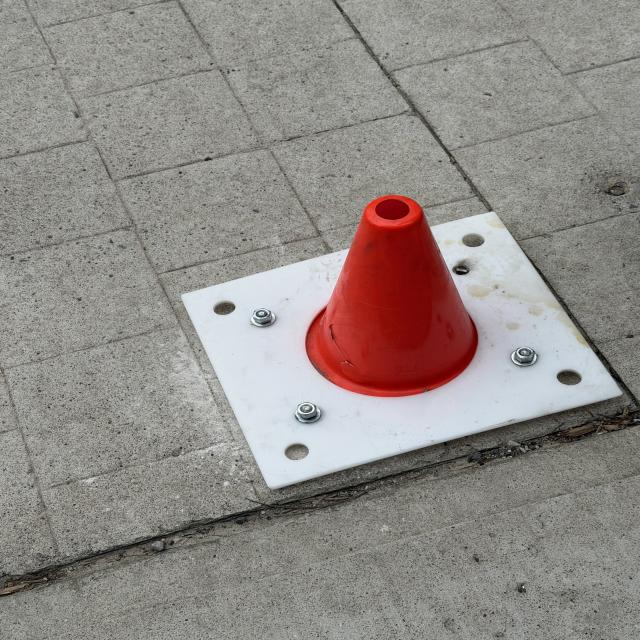Traffic Cone: (303, 191, 484, 401)
